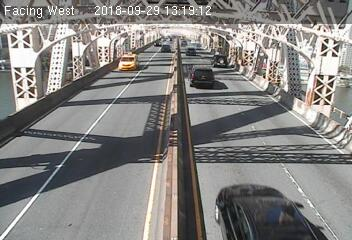car: (207, 180, 320, 240), (187, 64, 217, 88), (117, 51, 142, 71), (209, 49, 233, 67), (160, 42, 172, 52), (185, 47, 195, 54)
